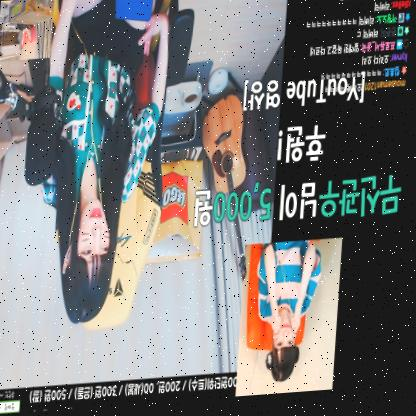donation: (186, 73, 410, 404)
streamer: (34, 0, 173, 328)
